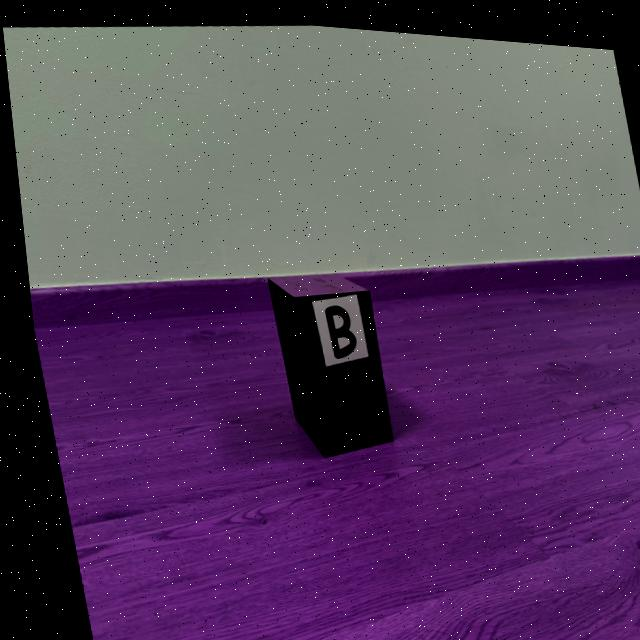B: (318, 301, 349, 353)
